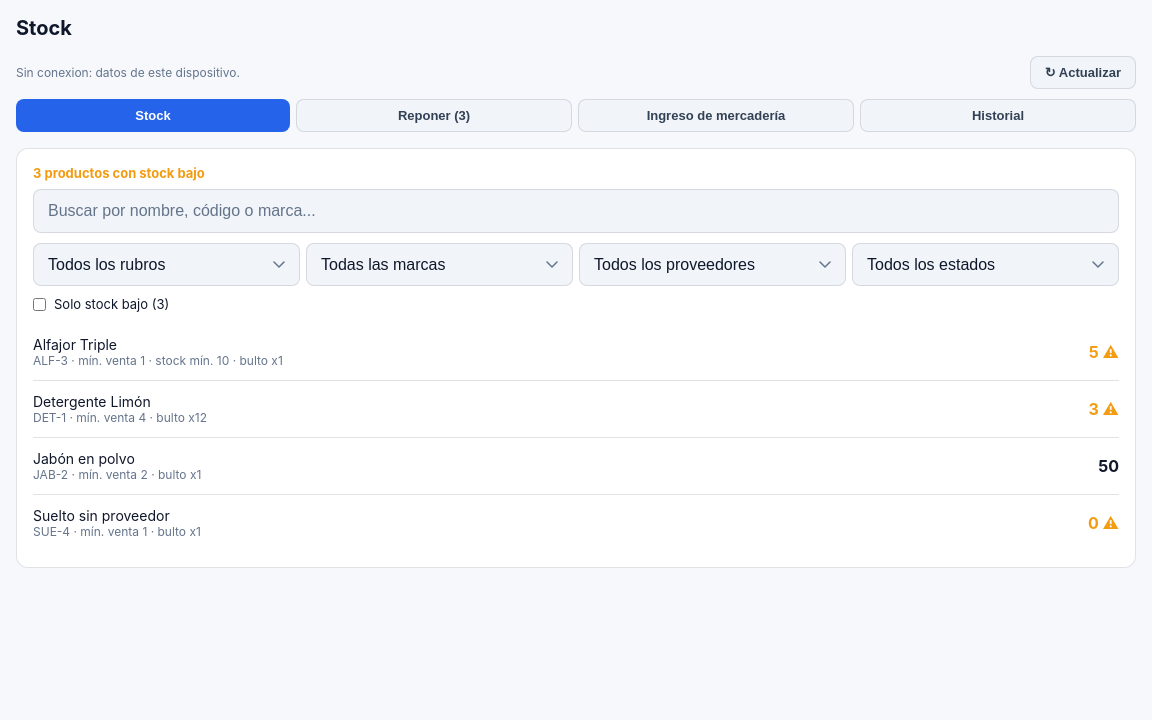
AC-STB-3 Reponer: agregar al pedido al proveedor › AC-STB-3 agrupa por proveedor y deja los sin proveedor sin botón
Step 1. Click the button "Reponer (3)" → x=434, y=116, box [296,99,572,132]
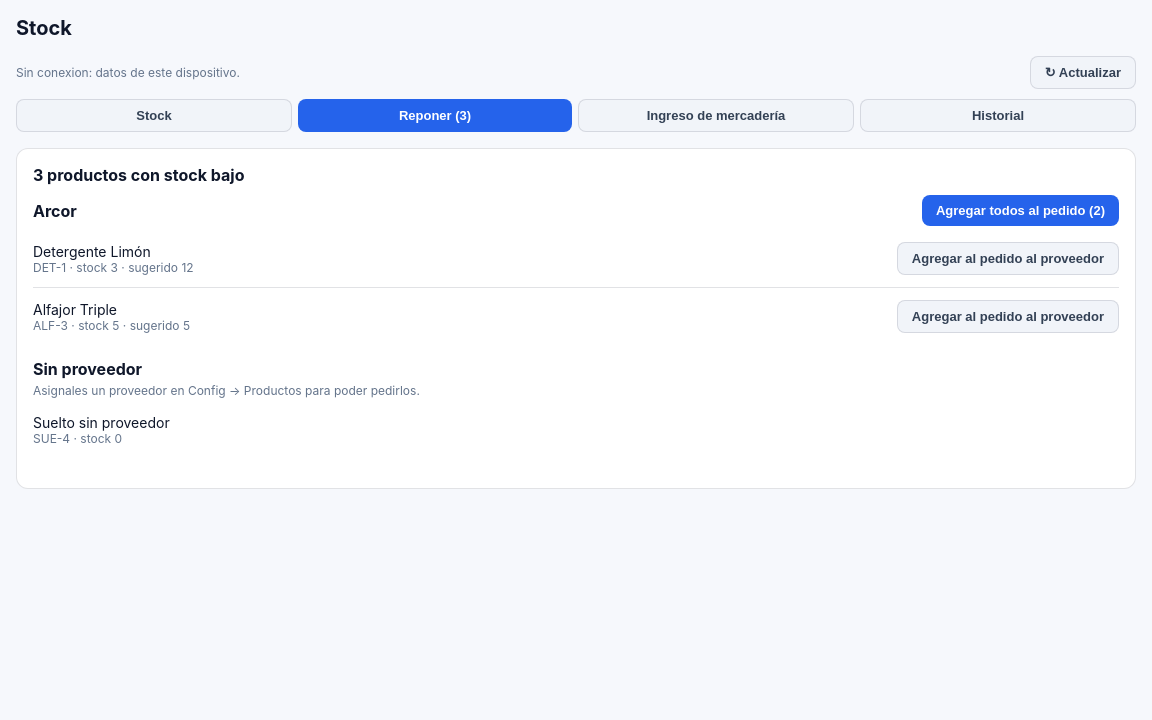
Expected: the text "Asignales un proveedor" is shown, [33,383,420,398]
